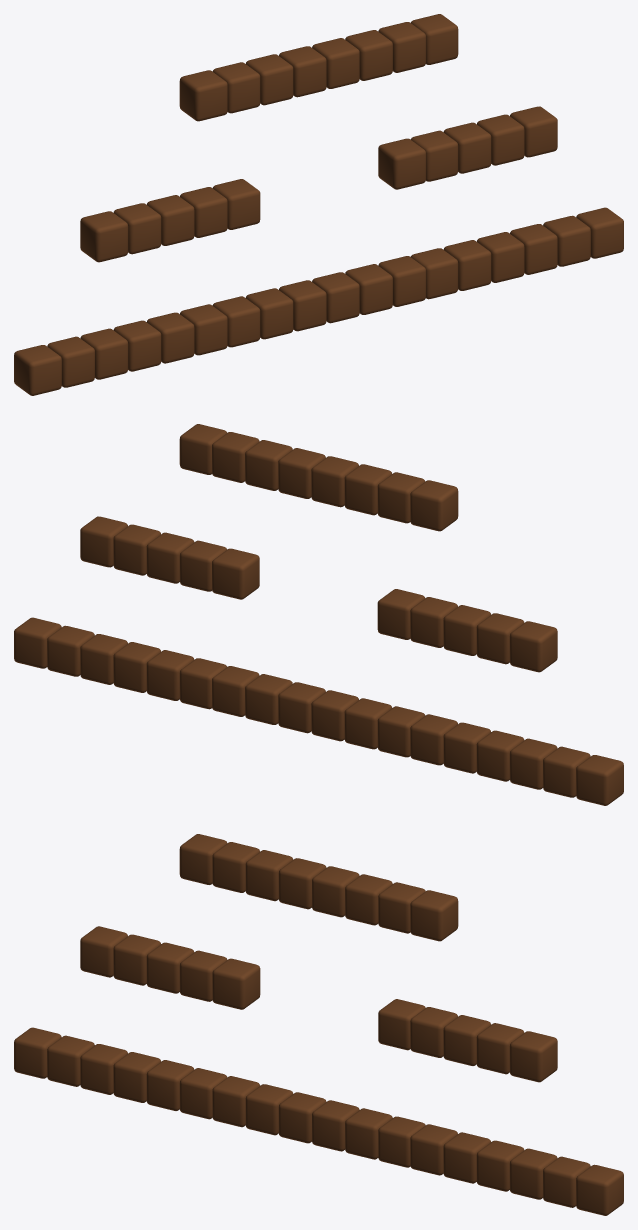
Rendered from Western_level_blocks.FBX.
3 views of the same model, one above another, from view 1: azimuth 30°, elevation 25°; view 2: azimuth 150°, elevation 25°; view 3: azimuth 330°, elevation 25° (orthographic).
Visible parts, largest first — view 1: Object1696, Object1706, Object1705, Object1686, Object1688, Object1694, Object1674, Object1684, Object1701, Object1709, Object1675, Object1692 (+24 smaller); view 2: Object1696, Object1706, Object1705, Object1686, Object1688, Object1694, Object1674, Object1684, Object1701, Object1709, Object1675, Object1692 (+24 smaller); view 3: Object1700, Object1701, Object1713, Object1695, Object1711, Object1685, Object1691, Object1707, Object1671, Object1672, Object1675, Object1693 (+24 smaller).
Boxes of the visible parts, left/top/right/bottom form: Object1696: left=80, top=211, right=128, bottom=262; Object1706: left=179, top=70, right=227, bottom=121; Object1705: left=378, top=138, right=425, bottom=189; Object1686: left=14, top=345, right=61, bottom=395; Object1688: left=180, top=304, right=227, bottom=355; Object1694: left=477, top=232, right=524, bottom=282; Object1674: left=312, top=272, right=359, bottom=323; Object1684: left=147, top=312, right=194, bottom=363; Object1701: left=510, top=106, right=557, bottom=157; Object1709: left=279, top=46, right=326, bottom=97; Object1675: left=279, top=280, right=326, bottom=331; Object1692: left=510, top=224, right=557, bottom=274; Object1696: left=509, top=621, right=557, bottom=672; Object1706: left=410, top=480, right=458, bottom=531; Object1705: left=212, top=548, right=259, bottom=599; Object1686: left=576, top=755, right=623, bottom=805; Object1688: left=410, top=714, right=457, bottom=765; Object1694: left=113, top=642, right=160, bottom=692; Object1674: left=278, top=682, right=325, bottom=733; Object1684: left=443, top=722, right=490, bottom=773; Object1701: left=80, top=516, right=127, bottom=567; Object1709: left=311, top=456, right=358, bottom=507; Object1675: left=311, top=690, right=358, bottom=741; Object1692: left=80, top=634, right=127, bottom=684; Object1700: left=212, top=958, right=260, bottom=1009; Object1701: left=509, top=1031, right=557, bottom=1082; Object1713: left=410, top=890, right=458, bottom=941; Object1695: left=576, top=1164, right=623, bottom=1215; Object1711: left=345, top=874, right=392, bottom=925; Object1685: left=47, top=1035, right=94, bottom=1086; Object1691: left=443, top=1132, right=490, bottom=1183; Object1707: left=212, top=842, right=260, bottom=892; Object1671: left=212, top=1076, right=260, bottom=1127; Object1672: left=345, top=1108, right=392, bottom=1159; Object1675: left=278, top=1092, right=326, bottom=1143; Object1693: left=410, top=1124, right=457, bottom=1175.
Size of the model in its own units: 362 by 156 by 19.37.
